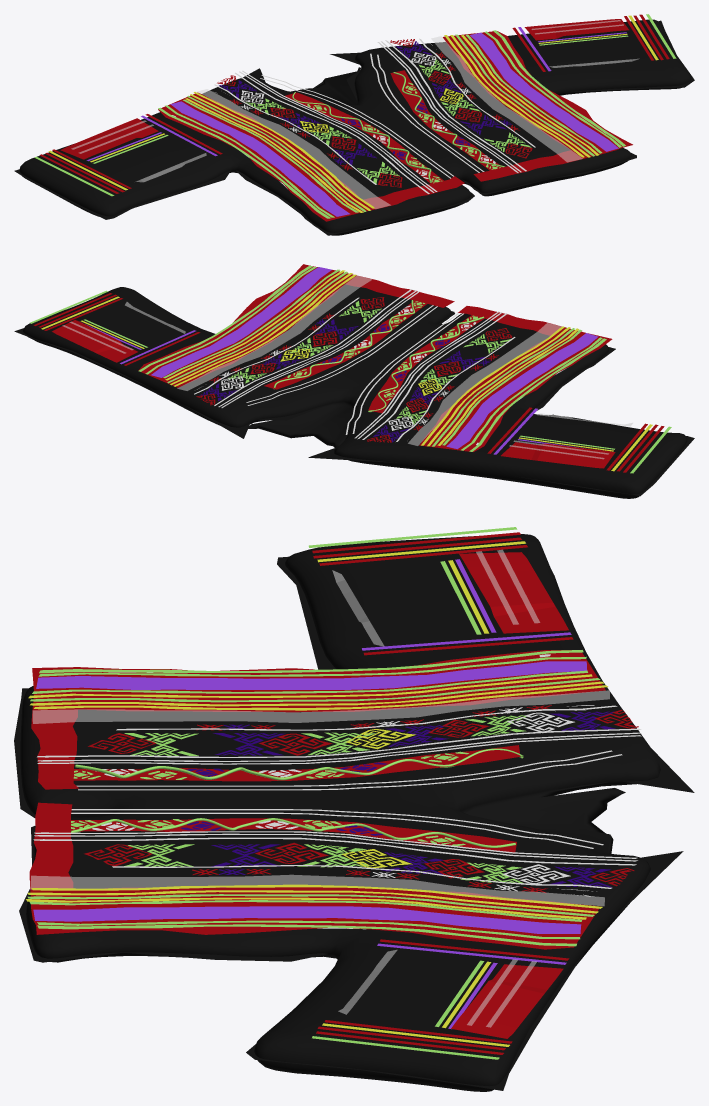
The model's file is cloth.glb.
3 renders of one model, top to bottom at view 1: azimuth 30°, elevation 25°; view 2: azimuth 150°, elevation 25°; view 3: azimuth 270°, elevation 25°, orthographic. The views are drawn at different scales.
Visible parts, largest first — view 1: 平面, 平面.001, 平面.076, 衣服, NURBS路径.002, NURBS路径.001; view 2: 平面, 平面.076, 平面.001, 衣服, NURBS路径.002, NURBS路径.001; view 3: 平面, 平面.001, 平面.076, 衣服, NURBS路径.002, NURBS路径.001, 平面.005, 平面.004, 平面.003, 平面.002.
Boxes of the visible parts, x1,y1,x2,y2 form: 平面: (19, 19, 691, 235); 平面.001: (34, 70, 464, 221); 平面.076: (377, 14, 676, 181); 衣服: (14, 20, 694, 235); NURBS路径.002: (292, 92, 431, 182); NURBS路径.001: (393, 72, 505, 167); 平面: (23, 284, 687, 498); 平面.076: (30, 264, 454, 407); 平面.001: (354, 306, 671, 473); 衣服: (14, 311, 694, 496); NURBS路径.002: (368, 316, 484, 412); NURBS路径.001: (273, 300, 414, 389); 平面: (20, 534, 660, 1091); 平面.001: (28, 527, 641, 789); 平面.076: (26, 802, 637, 1059); 衣服: (14, 556, 694, 1090); NURBS路径.002: (75, 748, 523, 780); NURBS路径.001: (71, 818, 515, 847); 平面.005: (78, 754, 622, 790); 平面.004: (76, 750, 612, 786); 平面.003: (71, 809, 603, 845); 平面.002: (71, 812, 593, 848).
Bounding box in the file's own units: 10.55 × 0.4467 × 5.48.
